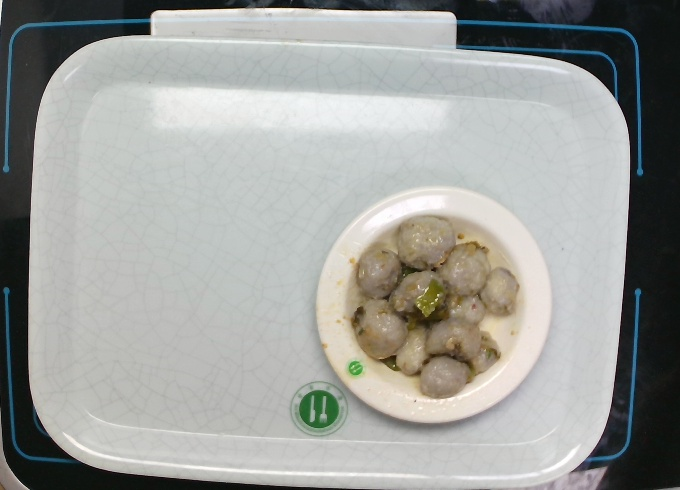WCQzf-Kuan_Bian_Yuan_Die: (312, 183, 554, 425)
